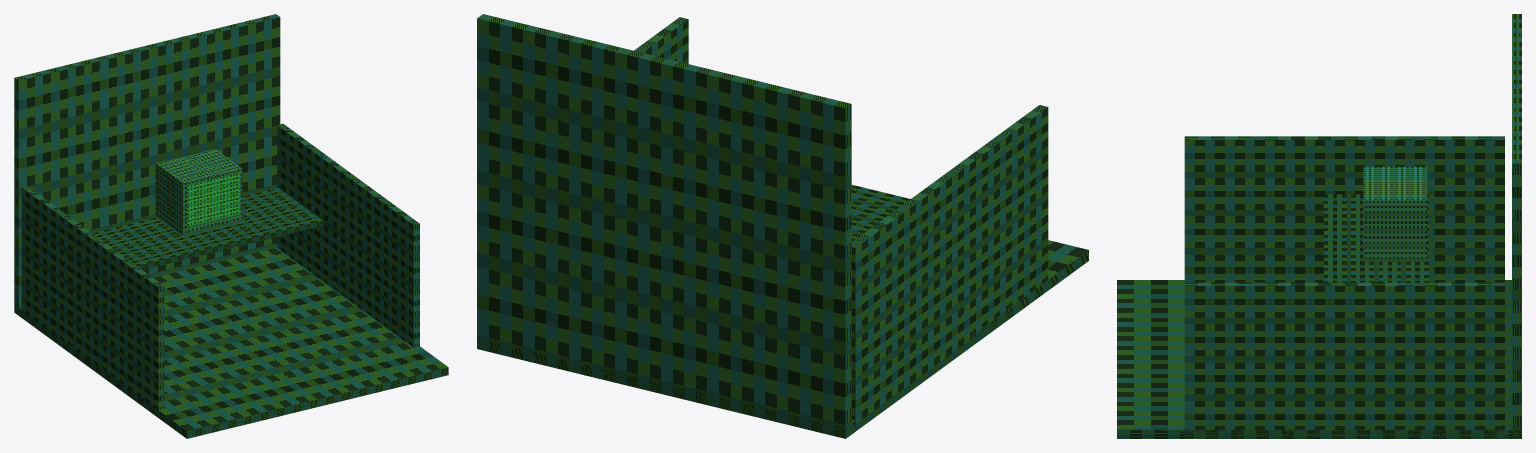
The model's file is neighbor_bay.glb.
3 renders of one model, left to right at view 1: azimuth 30°, elevation 25°; view 2: azimuth 150°, elevation 25°; view 3: azimuth 270°, elevation 25°, orthographic. The views are drawn at different scales.
Parts seen in each view (by area): view 1: neighbor_bay; view 2: neighbor_bay; view 3: neighbor_bay.
Part boxes in pixels (<box>): neighbor_bay: <box>14,14,448,438</box>; neighbor_bay: <box>477,14,1088,438</box>; neighbor_bay: <box>1117,14,1521,438</box>.
Bounding box in the file's own units: 2.1 × 1.8 × 2.4.
Materials: 1 (1 with a texture image).
